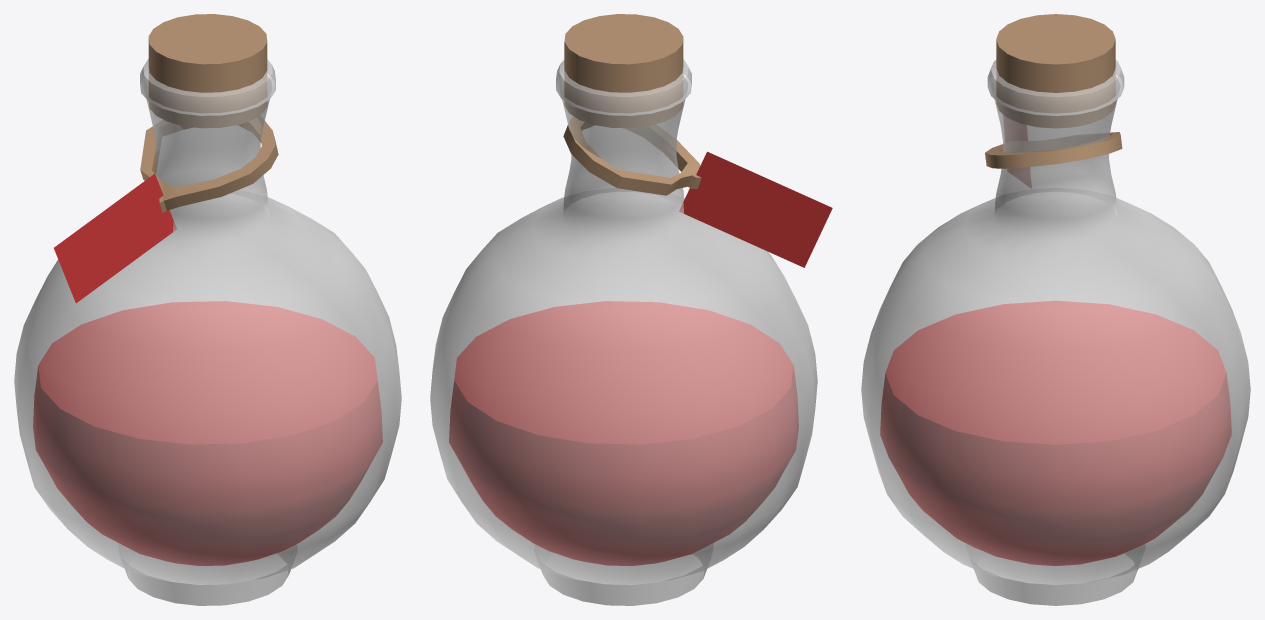
Rendered from potion.fbx.
3 renders of one model, left to right at view 1: azimuth 30°, elevation 25°; view 2: azimuth 150°, elevation 25°; view 3: azimuth 270°, elevation 25°, orthographic.
Visible parts, largest first — view 1: pSphere1, pSphere2, pCylinder1, pPlane1, pCube1; view 2: pSphere1, pSphere2, pCylinder1, pPlane1, pCube1; view 3: pSphere1, pSphere2, pCylinder1, pCube1, pPlane1.
Part boxes in pixels (x1=…): pSphere1: x1=14, y1=59, x2=401, y2=605; pSphere2: x1=33, y1=301, x2=382, y2=565; pCylinder1: x1=148, y1=14, x2=267, y2=127; pPlane1: x1=54, y1=174, x2=176, y2=303; pCube1: x1=140, y1=116, x2=278, y2=212; pSphere1: x1=430, y1=59, x2=817, y2=605; pSphere2: x1=449, y1=301, x2=798, y2=565; pCylinder1: x1=564, y1=14, x2=683, y2=127; pPlane1: x1=679, y1=151, x2=832, y2=267; pCube1: x1=563, y1=117, x2=701, y2=195; pSphere1: x1=861, y1=60, x2=1250, y2=605; pSphere2: x1=880, y1=301, x2=1231, y2=565; pCylinder1: x1=996, y1=14, x2=1115, y2=128; pCube1: x1=985, y1=132, x2=1122, y2=168; pPlane1: x1=1003, y1=115, x2=1031, y2=188.
Size of the model in its own units: 2.03 by 2.95 by 1.95.
